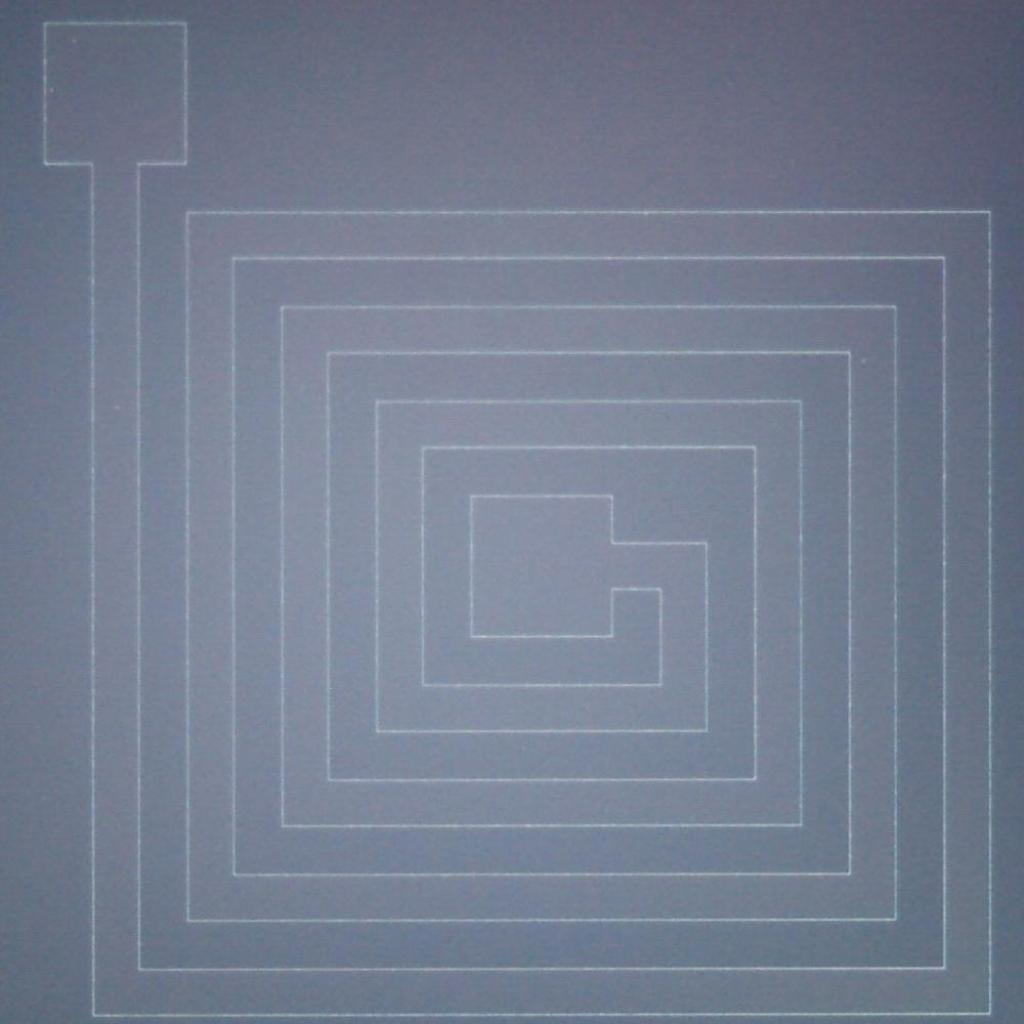dot: (860, 358, 866, 364)
